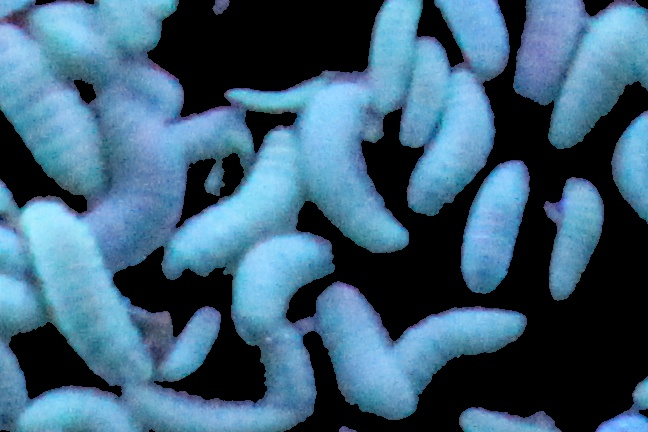larvae: (14, 201, 150, 385), (161, 127, 305, 277), (299, 82, 409, 254), (1, 21, 104, 200), (85, 92, 188, 269), (545, 1, 648, 148), (318, 283, 415, 419), (384, 307, 529, 394), (408, 67, 493, 213), (229, 234, 331, 340), (456, 160, 530, 296), (511, 1, 588, 105), (132, 390, 311, 432), (547, 178, 604, 301), (21, 4, 117, 76), (364, 1, 424, 111), (431, 1, 509, 75), (15, 389, 139, 432), (253, 320, 317, 401), (402, 37, 450, 143), (111, 57, 192, 117), (177, 104, 256, 164), (156, 307, 219, 382), (223, 73, 334, 115), (609, 112, 648, 229), (100, 2, 167, 54)
